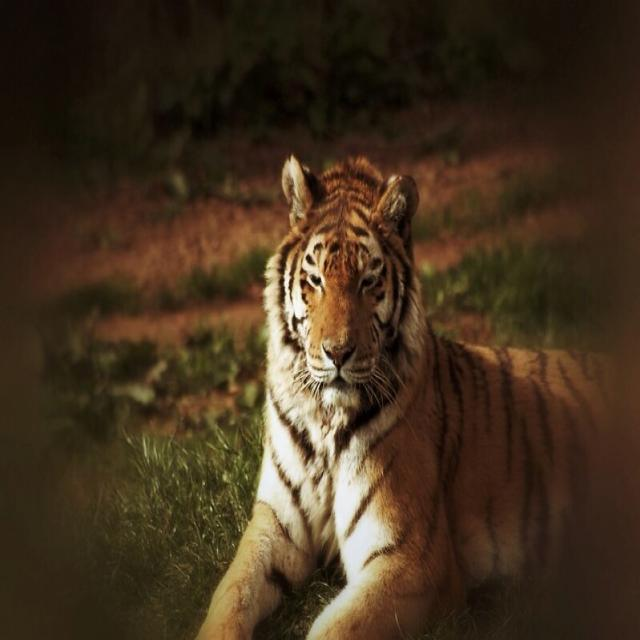Tiger: (213, 151, 599, 639)
